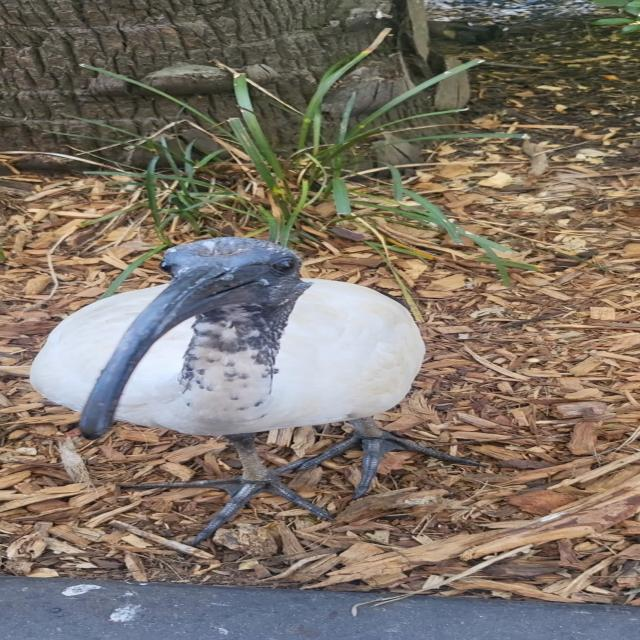Birds-Ibis: (18, 234, 494, 548)
